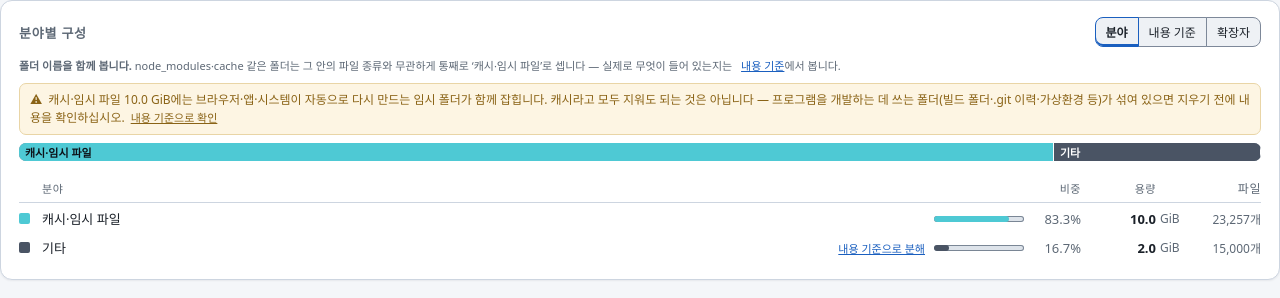
Test case: 축 전환 › 제목과 차트 대체 텍스트가 축을 따라간다
Expected: the heading reads "분야별 구성", [19, 24, 87, 42]
Click the button "확장자" at (1233,32), box [1206, 17, 1261, 47]
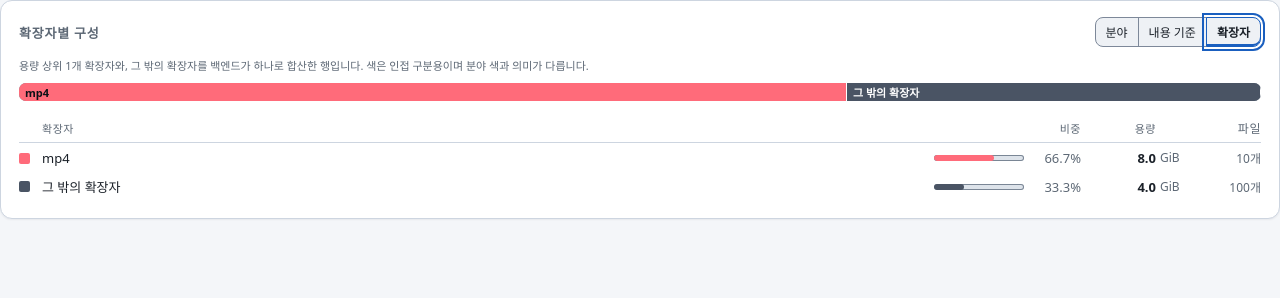
Expected: the heading reads "확장자별 구성", [19, 24, 100, 42]
